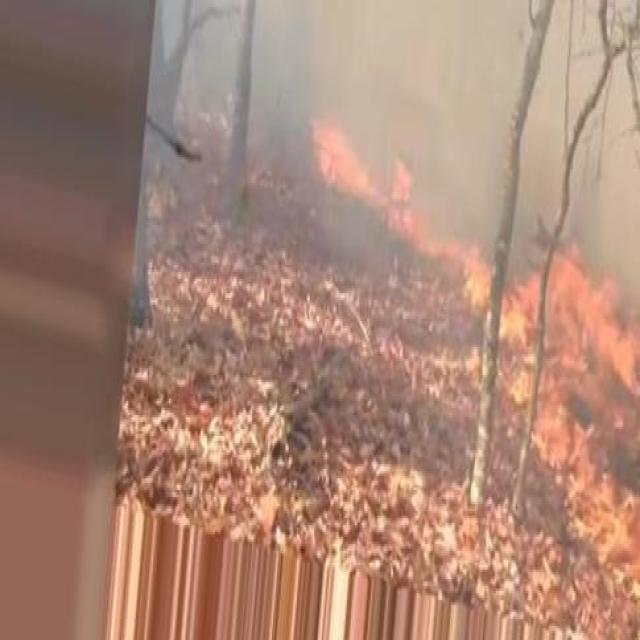fire: (487, 246, 637, 622), (306, 99, 485, 272)
